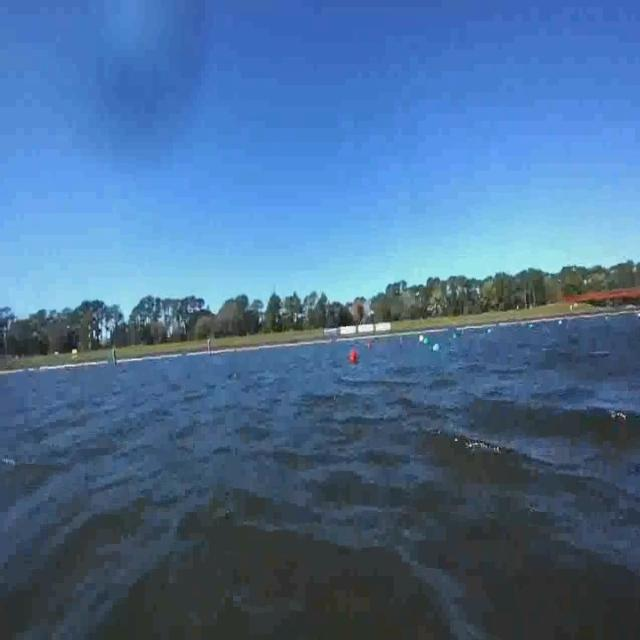red-buoy: (350, 349, 359, 364)
